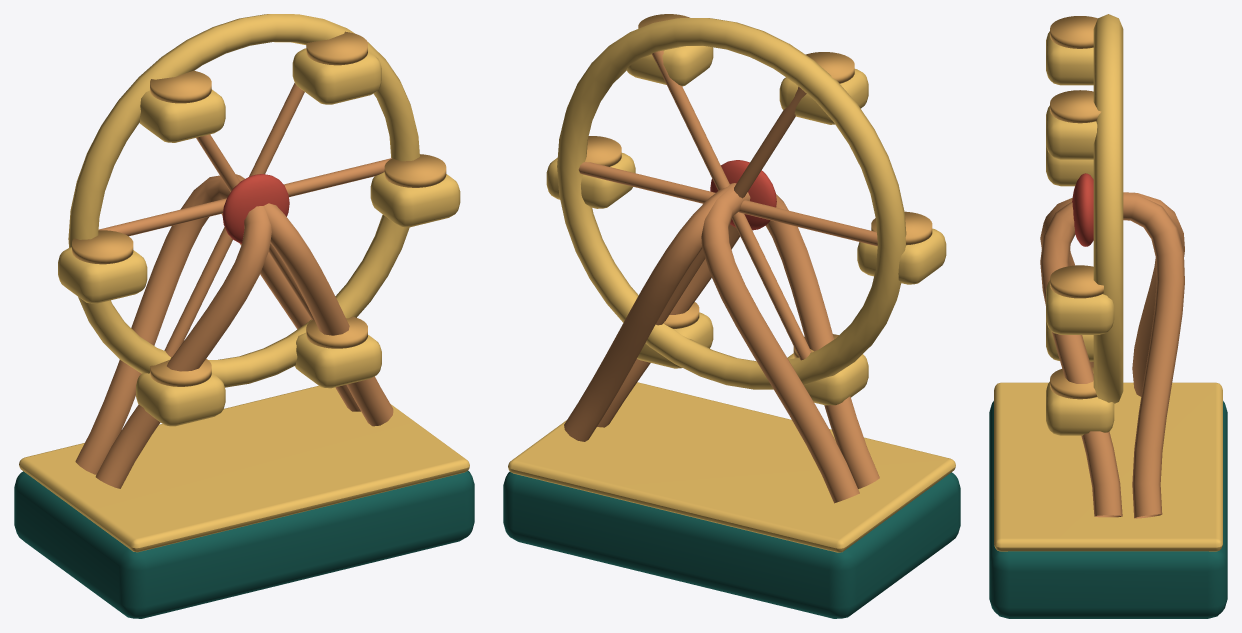
3 renders of one model, left to right at view 1: azimuth 30°, elevation 25°; view 2: azimuth 150°, elevation 25°; view 3: azimuth 270°, elevation 25°, orthographic. The views are drawn at different scales.
Parts seen in each view (by area): view 1: Maple wheel, Brass welt, Jade footing, Wheel stand, Pancake cushion, Wheel spoke, Maple centre; view 2: Maple wheel, Brass welt, Jade footing, Wheel stand, Wheel spoke, Pancake cushion, Maple centre; view 3: Brass welt, Maple wheel, Wheel stand, Jade footing, Pancake cushion, Maple centre.
Part boxes in pixels (<box>): Maple wheel: <box>58,14,460,426</box>; Brass welt: <box>19,385,469,552</box>; Jade footing: <box>14,470,474,618</box>; Wheel stand: <box>75,174,393,488</box>; Pancake cushion: <box>72,31,446,386</box>; Wheel spoke: <box>99,83,391,357</box>; Maple centre: <box>222,174,289,243</box>; Maple wheel: <box>546,18,946,405</box>; Brass welt: <box>508,382,955,552</box>; Jade footing: <box>503,471,960,618</box>; Wheel stand: <box>564,183,879,503</box>; Wheel spoke: <box>578,50,877,360</box>; Pancake cushion: <box>585,14,932,358</box>; Maple centre: <box>710,160,776,230</box>; Brass welt: <box>994,382,1222,551</box>; Maple wheel: <box>1046,14,1123,435</box>; Wheel stand: <box>1040,192,1184,518</box>; Jade footing: <box>989,401,1227,618</box>; Pancake cushion: <box>1050,16,1103,399</box>; Maple centre: <box>1072,173,1093,246</box>.
Bounding box in the file's own units: 0.75 × 0.991 × 0.42.
